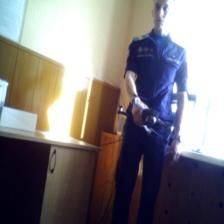drone: (111, 86, 182, 152)
